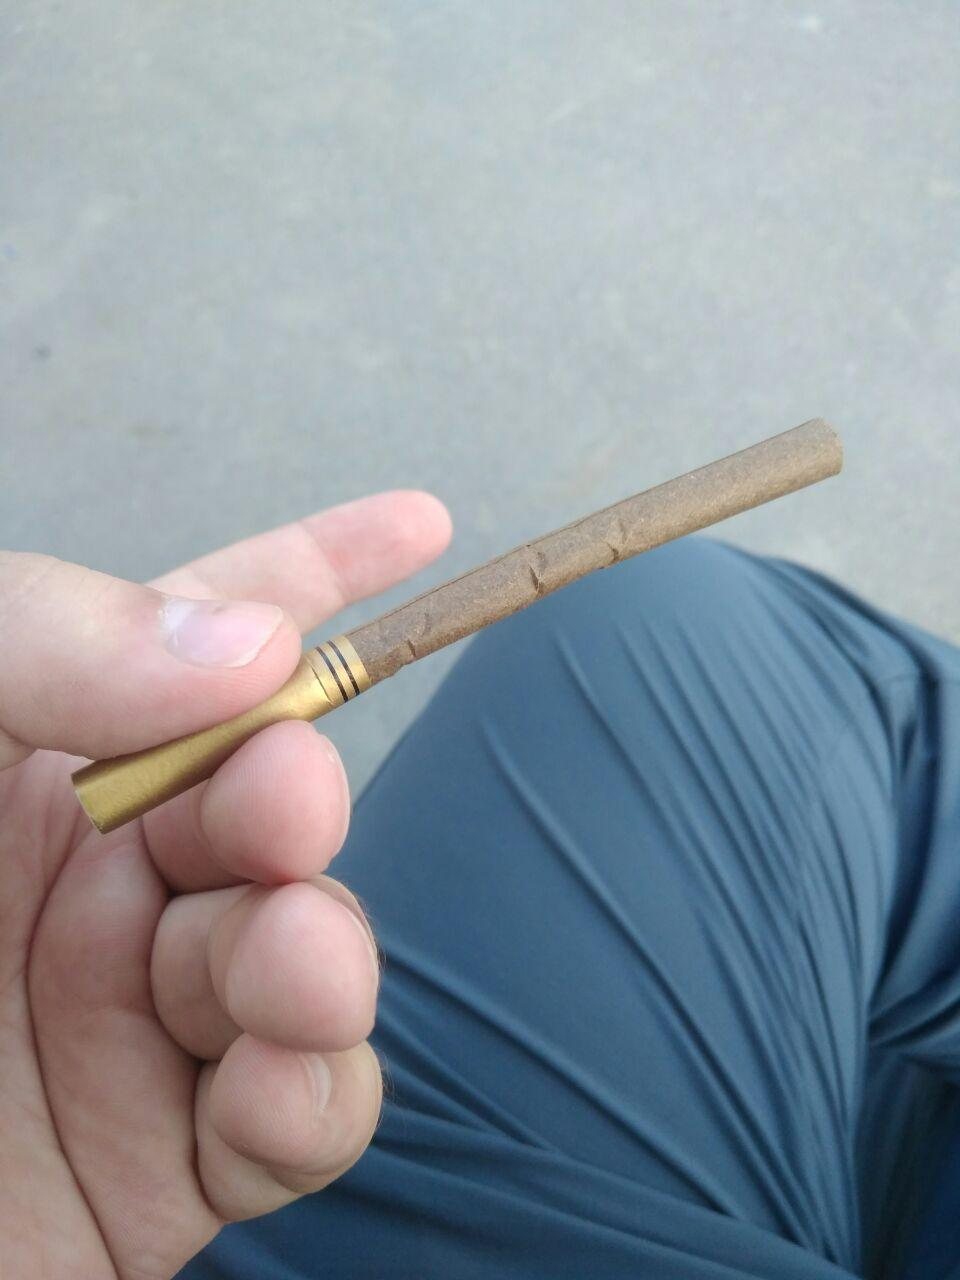cigarette: (73, 420, 842, 833)
